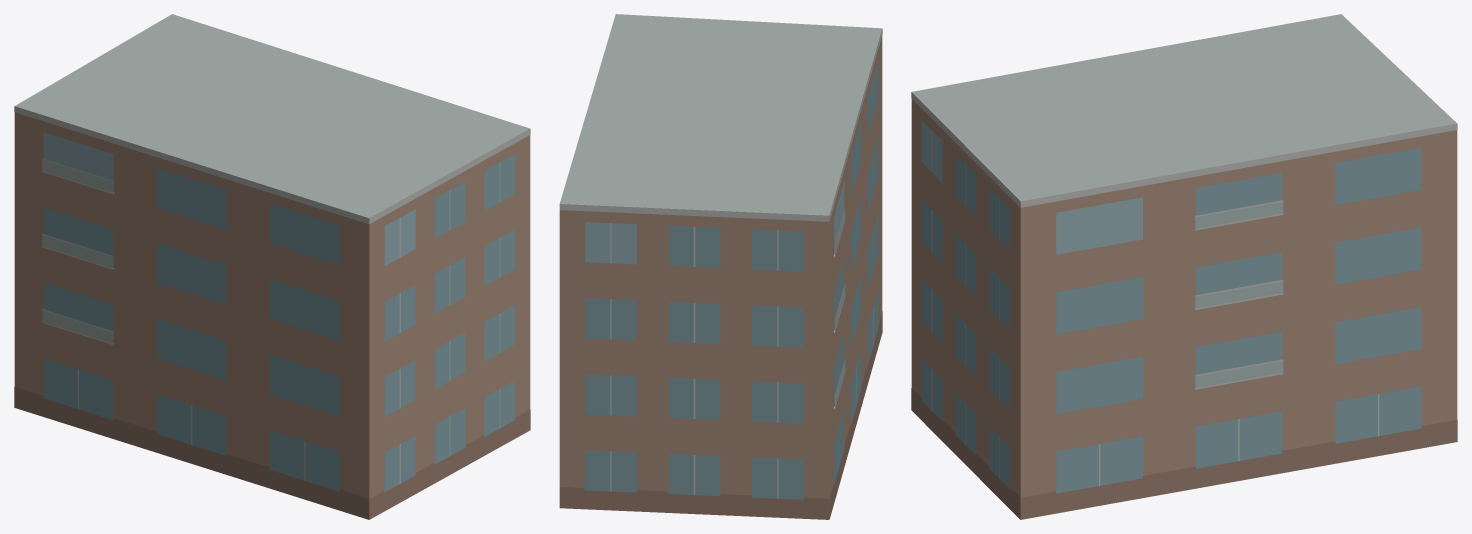
The model's file is residential-0812a9b0-c400-497b-ab7f-8fc0bdcc774f.glb.
3 renders of one model, left to right at view 1: azimuth 30°, elevation 25°; view 2: azimuth 150°, elevation 25°; view 3: azimuth 270°, elevation 25°, orthographic. The views are drawn at different scales.
Parts seen in each view (by area): view 1: residential-0812a9b0-c400-497b-ab7f-8fc0bdcc774f.tmp; view 2: residential-0812a9b0-c400-497b-ab7f-8fc0bdcc774f.tmp; view 3: residential-0812a9b0-c400-497b-ab7f-8fc0bdcc774f.tmp.
Part boxes in pixels (<box>): residential-0812a9b0-c400-497b-ab7f-8fc0bdcc774f.tmp: <box>14,14,530,519</box>; residential-0812a9b0-c400-497b-ab7f-8fc0bdcc774f.tmp: <box>559,14,882,519</box>; residential-0812a9b0-c400-497b-ab7f-8fc0bdcc774f.tmp: <box>911,14,1457,519</box>.
Size of the model in its own units: 15.42 by 12.2 by 18.97.
